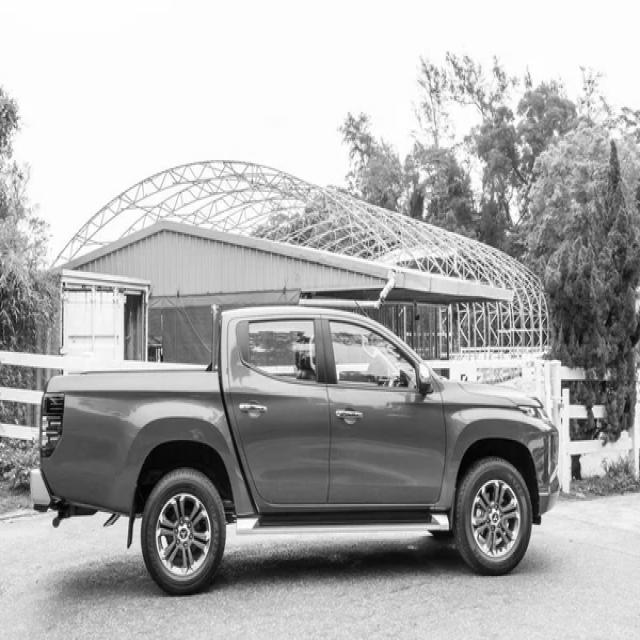Car: (30, 307, 560, 595)
